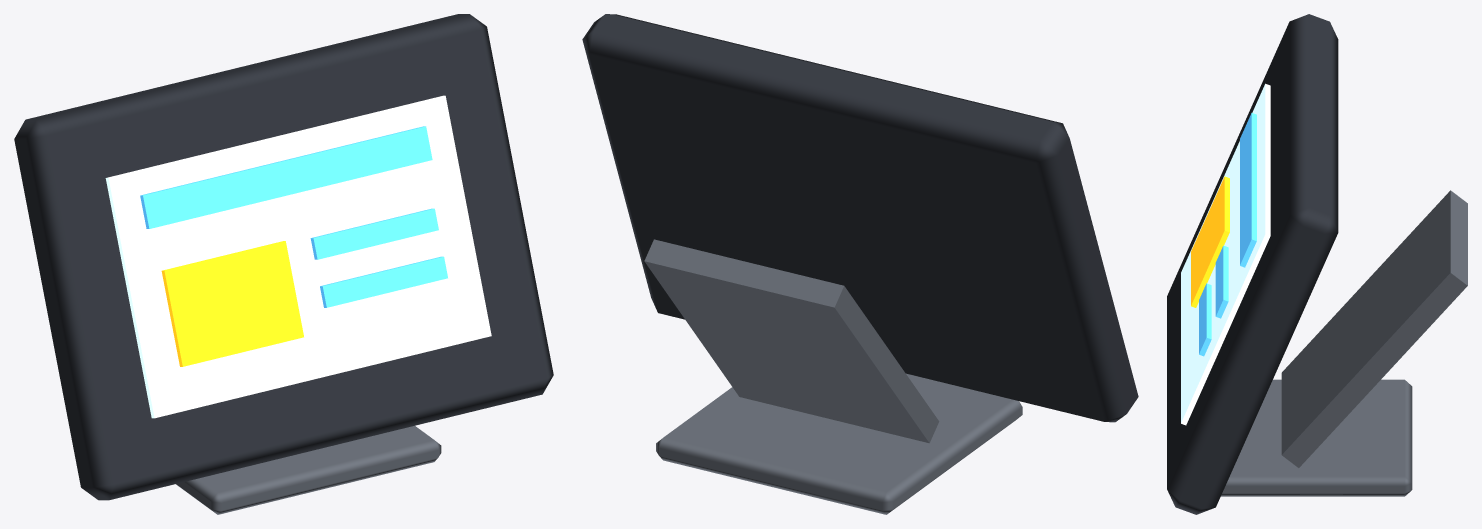
File: station_intake_ausstattung_2_1.glb
3 renders of one model, left to right at view 1: azimuth 30°, elevation 25°; view 2: azimuth 150°, elevation 25°; view 3: azimuth 270°, elevation 25°, orthographic. The views are drawn at different scales.
Parts seen in each view (by area): view 1: station_intake_ausstattung_2_1; view 2: station_intake_ausstattung_2_1; view 3: station_intake_ausstattung_2_1.
Boxes of the visible parts, x1,y1,x2,y2 form: station_intake_ausstattung_2_1: (14, 14, 553, 514); station_intake_ausstattung_2_1: (582, 14, 1138, 514); station_intake_ausstattung_2_1: (1167, 14, 1467, 514).
Size of the model in its own units: 0.26 by 0.1984 by 0.1602.
